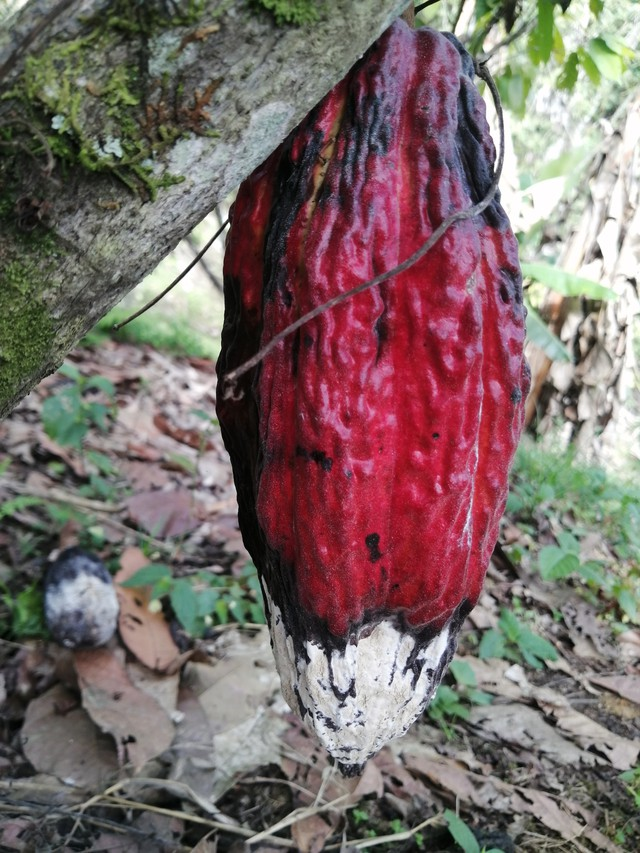moniliophthora roreri: (201, 14, 558, 785)
